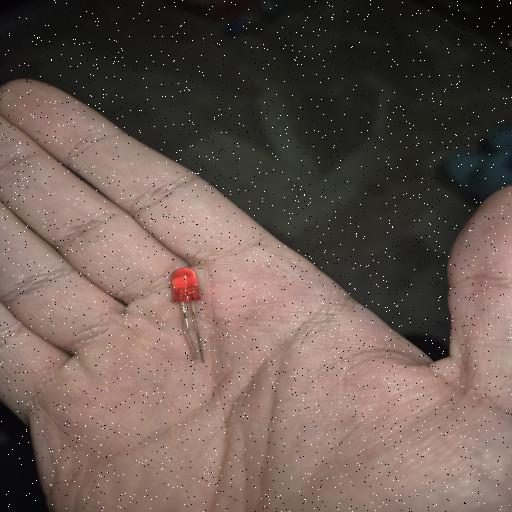led-diode: (170, 268, 205, 363)
